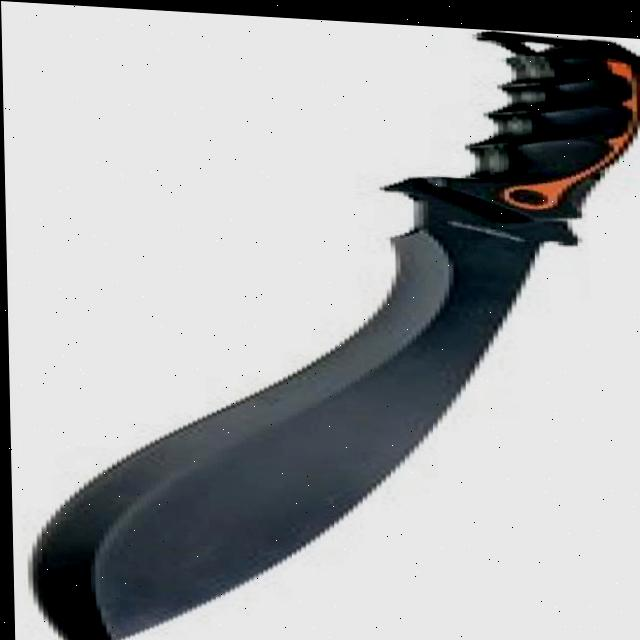long knife: (50, 4, 640, 640)
